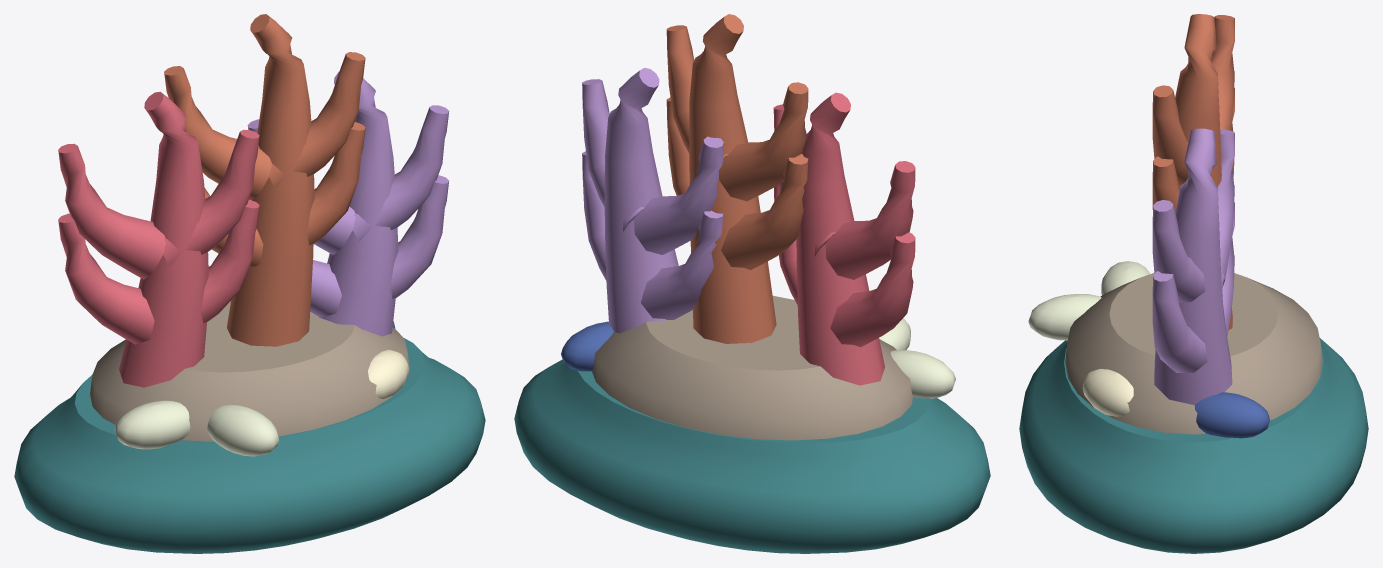
File: atelier_coral.glb
The picture shows the model from 3 angles, left to right: view 1: azimuth 30°, elevation 25°; view 2: azimuth 150°, elevation 25°; view 3: azimuth 270°, elevation 25°; orthographic projection.
Visible parts, largest first — view 1: Jardín de coral; view 2: Jardín de coral; view 3: Jardín de coral.
Part boxes in pixels (x1,y1,x2,y2): Jardín de coral: (14, 14, 485, 553); Jardín de coral: (514, 14, 990, 553); Jardín de coral: (1019, 14, 1368, 553).
Size of the model in its own units: 0.5916 by 0.6084 by 0.4082.
